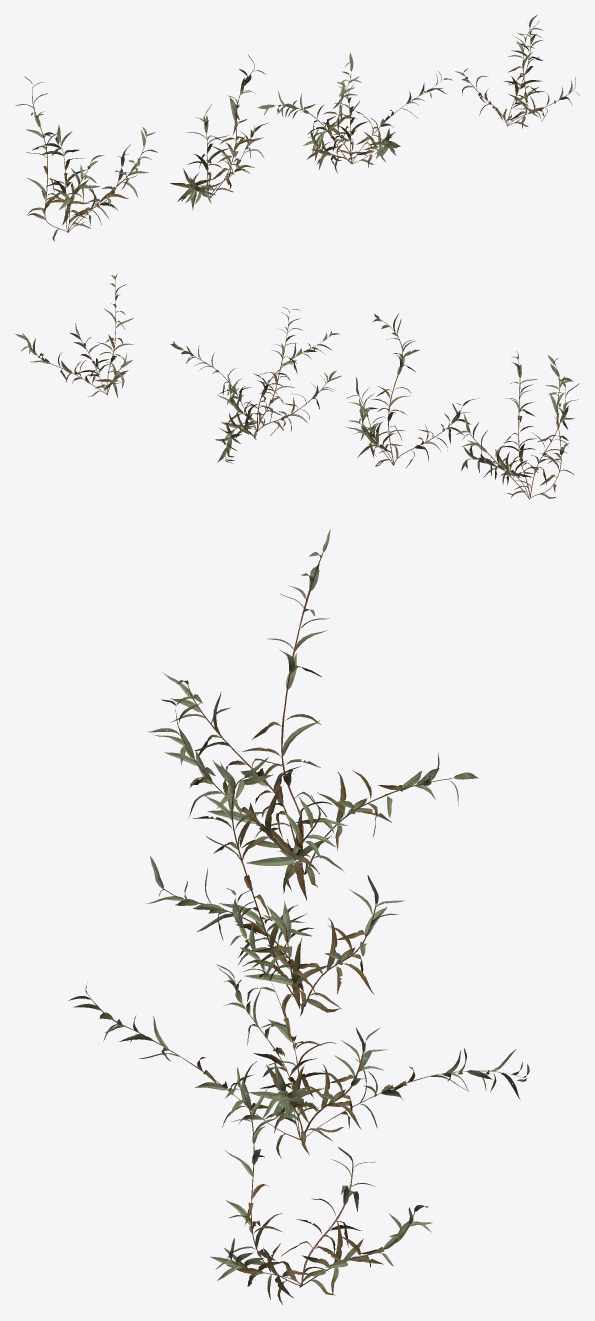
File: shrub_02_1k.gltf
The picture shows the model from 3 angles, top to bottom: view 1: azimuth 30°, elevation 25°; view 2: azimuth 150°, elevation 25°; view 3: azimuth 270°, elevation 25°; orthographic projection. The views are drawn at different scales.
Visible parts, largest first — view 1: shrub_02_a, shrub_02_c, shrub_02_b, shrub_02_d; view 2: shrub_02_a, shrub_02_c, shrub_02_b, shrub_02_d; view 3: shrub_02_a, shrub_02_c, shrub_02_b, shrub_02_d.
Boxes of the visible parts, x1,y1,x2,y2 form: shrub_02_a: [15, 76, 157, 241]; shrub_02_c: [257, 53, 452, 173]; shrub_02_b: [170, 55, 268, 209]; shrub_02_d: [455, 15, 580, 128]; shrub_02_a: [456, 351, 579, 499]; shrub_02_c: [170, 307, 341, 463]; shrub_02_b: [346, 313, 479, 468]; shrub_02_d: [14, 274, 134, 398]; shrub_02_a: [147, 529, 478, 900]; shrub_02_c: [68, 888, 529, 1158]; shrub_02_b: [145, 757, 404, 1018]; shrub_02_d: [210, 1067, 432, 1304].
Size of the model in its own units: 6.05 by 1.7 by 2.29.
1 material, 1 textured.
